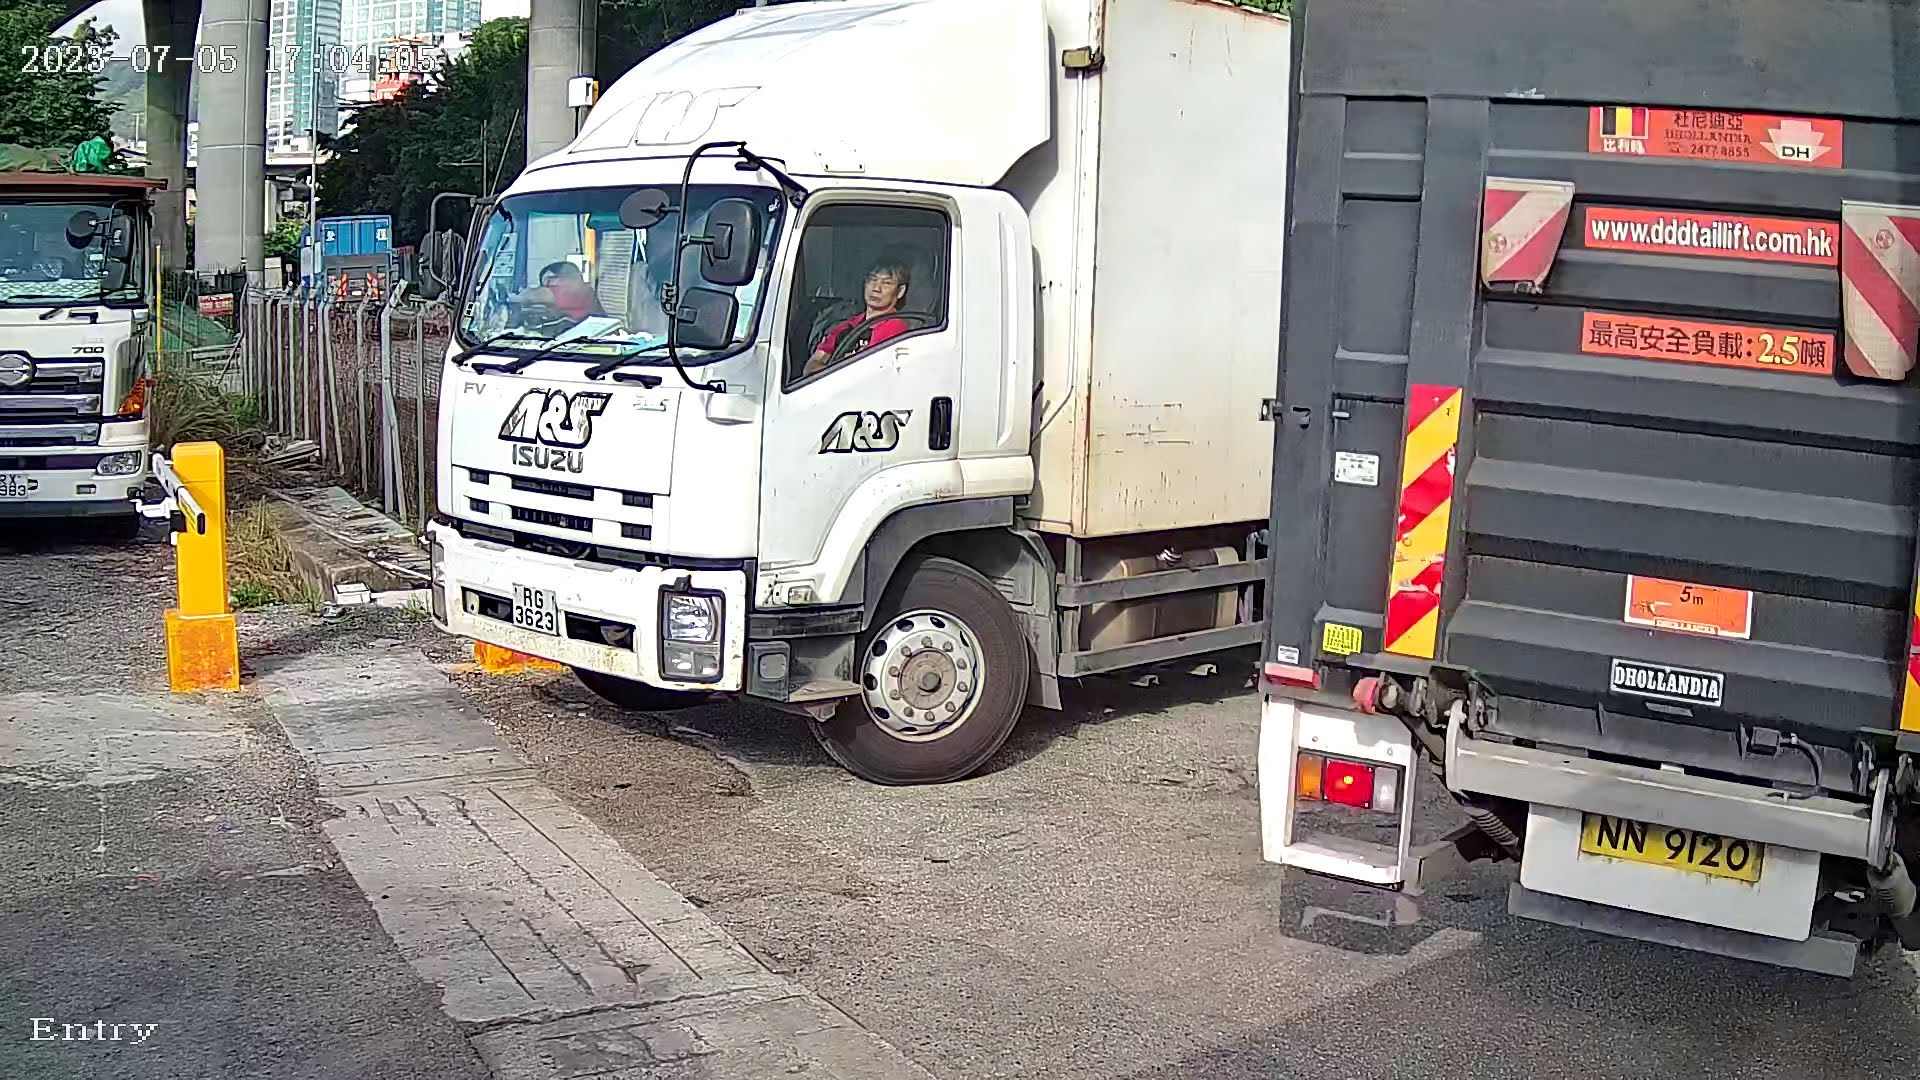truck: (409, 1, 1313, 781), (1232, 7, 1920, 1007)
